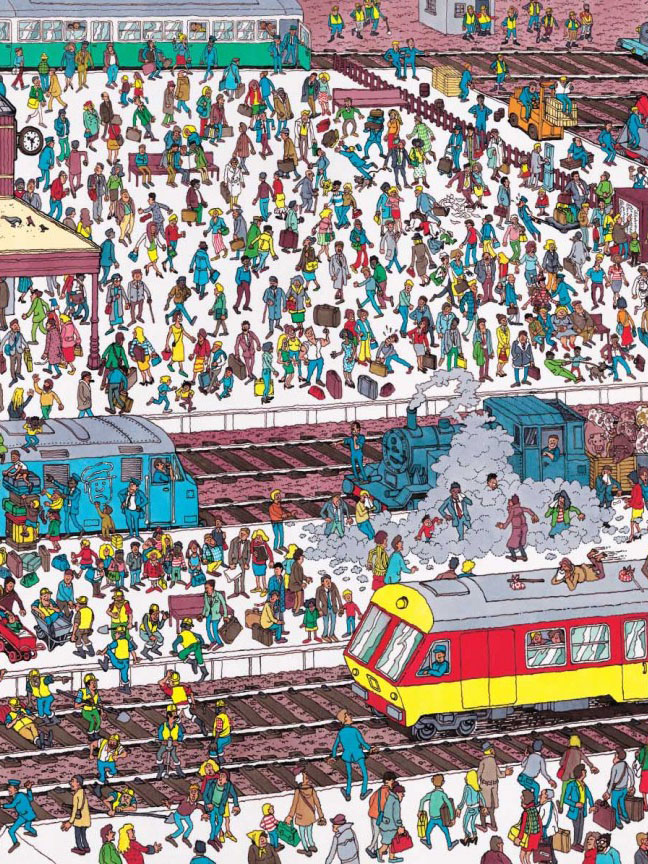waldo: (537, 272, 548, 287)
